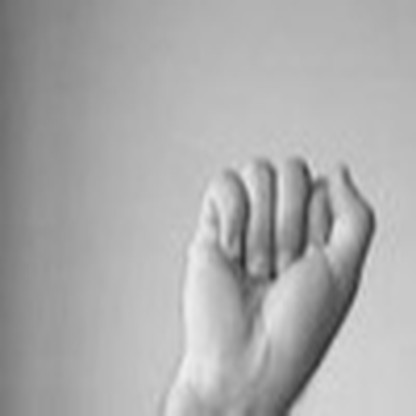a: (162, 142, 405, 393)
